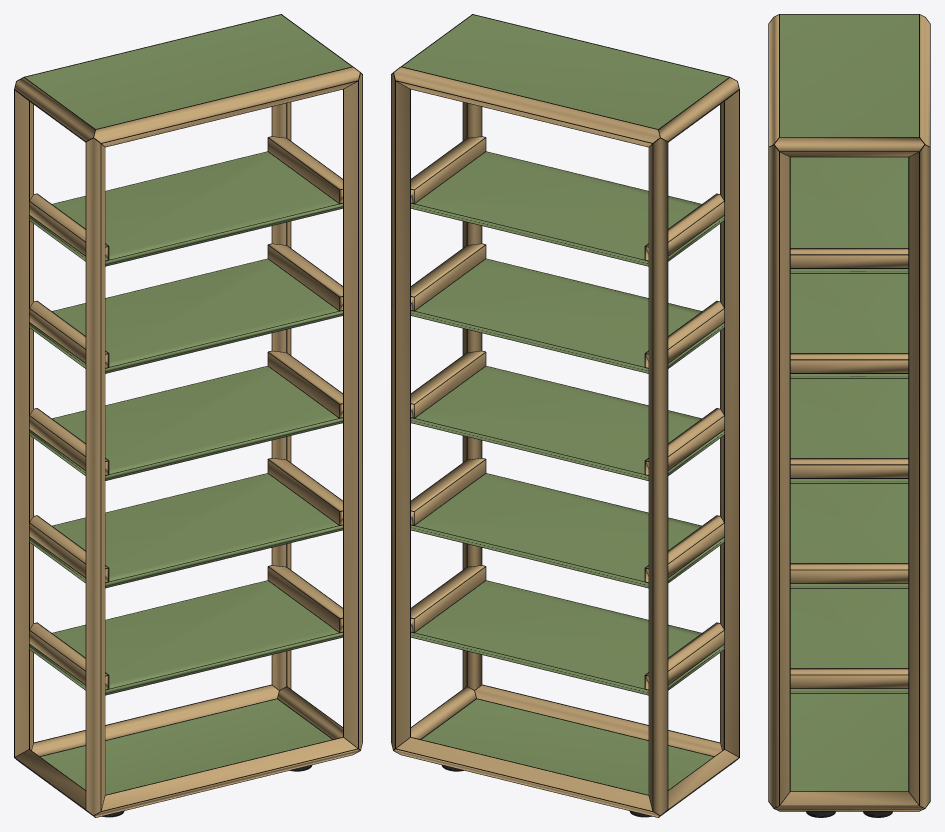
The model's file is 002-bibliotheque.glb.
The picture shows the model from 3 angles, left to right: view 1: azimuth 30°, elevation 25°; view 2: azimuth 150°, elevation 25°; view 3: azimuth 270°, elevation 25°; orthographic projection. The views are drawn at different scales.
Visible parts, largest first — view 1: panneau-dessus_exterieur, tablette-plate-mod-2, tablette-plate-mod-4, tablette-plate-mod-0, tablette-plate-mod-3, tablette-plate-mod-1, arete-Z0, panneau-dessous, arete-Z1, arete-Z2, arete-X2, arete-X0 (+26 smaller); view 2: panneau-dessus_exterieur, tablette-plate-mod-2, tablette-plate-mod-4, tablette-plate-mod-0, tablette-plate-mod-3, tablette-plate-mod-1, arete-Z2, panneau-dessous, arete-Z3, arete-Z0, arete-X3, arete-X1 (+26 smaller); view 3: panneau-dessus_exterieur, arete-Z1, arete-Z3, panneau-dessous, tablette-plate-mod-4, tablette-plate-mod-0, tablette-plate-mod-1, tablette-plate-mod-2, tablette-plate-mod-3, arete-Y3, arete-wire-Z1, arete-wire-Z3 (+16 smaller).
Part boxes in pixels (x1,y1,x2,y2): panneau-dessus_exterieur: [25, 15, 351, 128]; tablette-plate-mod-2: [29, 366, 342, 480]; tablette-plate-mod-4: [29, 152, 342, 265]; tablette-plate-mod-0: [29, 580, 342, 694]; tablette-plate-mod-3: [29, 259, 342, 372]; tablette-plate-mod-1: [29, 473, 342, 587]; arete-Z0: [86, 138, 104, 815]; panneau-dessous: [41, 699, 331, 794]; arete-Z1: [344, 73, 362, 749]; arete-Z2: [15, 90, 33, 756]; arete-X2: [94, 67, 359, 146]; arete-X0: [94, 737, 359, 817]; panneau-dessus_exterieur: [402, 15, 728, 128]; tablette-plate-mod-2: [411, 366, 724, 480]; tablette-plate-mod-4: [411, 152, 724, 265]; tablette-plate-mod-0: [411, 580, 724, 694]; tablette-plate-mod-3: [411, 259, 724, 372]; tablette-plate-mod-1: [411, 473, 724, 587]; arete-Z2: [649, 138, 667, 815]; panneau-dessous: [422, 699, 712, 794]; arete-Z3: [391, 73, 409, 749]; arete-Z0: [720, 90, 738, 756]; arete-X3: [394, 67, 659, 146]; arete-X1: [394, 737, 659, 817]; panneau-dessus_exterieur: [780, 14, 918, 136]; arete-Z1: [769, 145, 789, 807]; arete-Z3: [909, 145, 929, 807]; panneau-dessous: [790, 694, 908, 791]; tablette-plate-mod-4: [790, 157, 908, 273]; tablette-plate-mod-0: [790, 589, 908, 693]; tablette-plate-mod-1: [790, 484, 908, 588]; tablette-plate-mod-2: [790, 379, 908, 483]; tablette-plate-mod-3: [790, 274, 908, 378]; arete-Y3: [775, 137, 923, 156]; arete-wire-Z1: [768, 144, 790, 805]; arete-wire-Z3: [908, 147, 930, 805].
Bounding box in the file's own units: 0.8309 × 2.02 × 0.4309.
